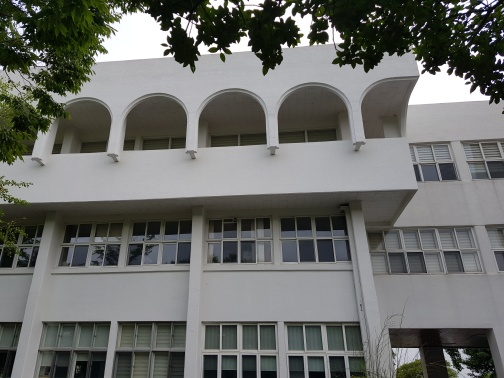Main Building of University: (24, 47, 502, 375), (116, 75, 357, 168)
